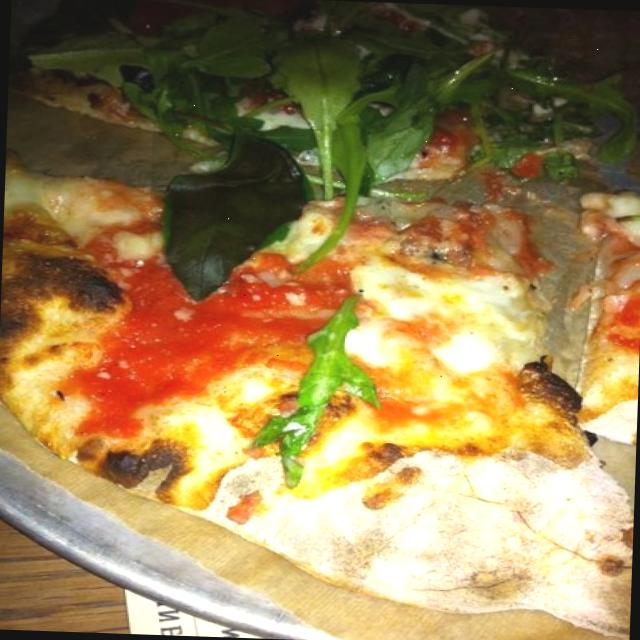basil: (140, 18, 640, 172), (257, 23, 427, 205), (243, 280, 387, 490), (146, 131, 304, 300)
cheese: (423, 326, 502, 378)
pizza: (2, 173, 630, 632), (8, 9, 640, 450)
